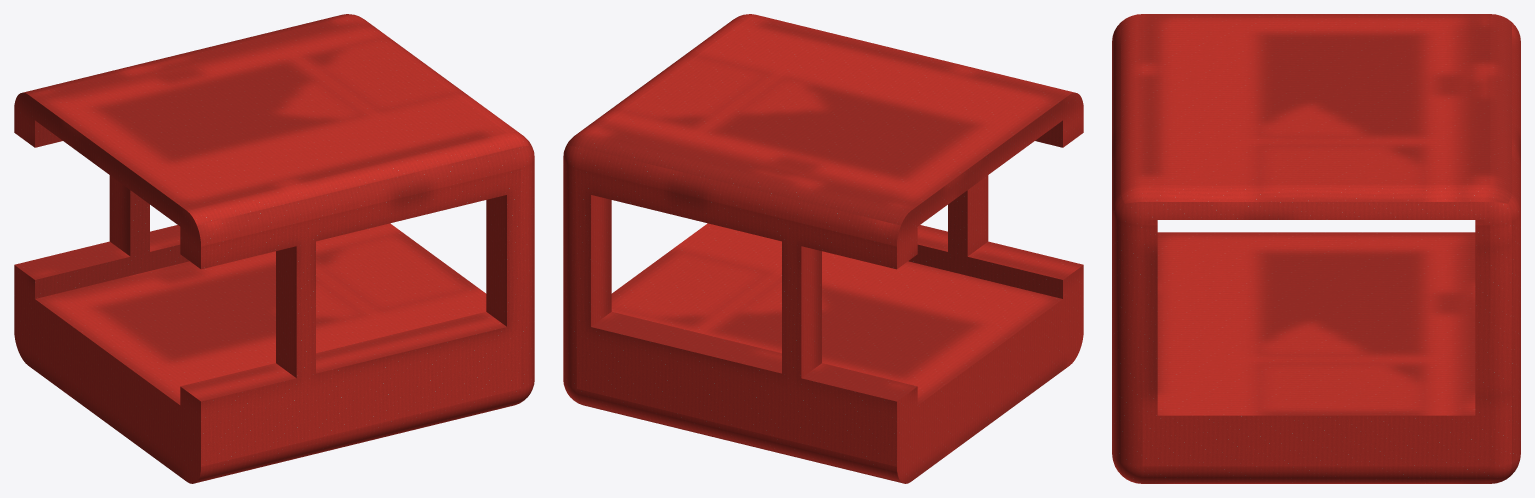
Rendered from 12-rounded-red-lunch-tin-half-2.fbx.
3 views of the same model, side by side, from view 1: azimuth 30°, elevation 25°; view 2: azimuth 150°, elevation 25°; view 3: azimuth 270°, elevation 25° (orthographic). The views are drawn at different scales.
Parts seen in each view (by area): view 1: rounded-red-lunch-tin-half-2; view 2: rounded-red-lunch-tin-half-2; view 3: rounded-red-lunch-tin-half-2.
Boxes of the visible parts, x1,y1,x2,y2 form: rounded-red-lunch-tin-half-2: (14, 14, 534, 483); rounded-red-lunch-tin-half-2: (563, 14, 1083, 483); rounded-red-lunch-tin-half-2: (1112, 14, 1520, 483).
Bounding box in the file's own units: 8500 × 6400 × 8000.
Materials: 1 (1 with a texture image).
